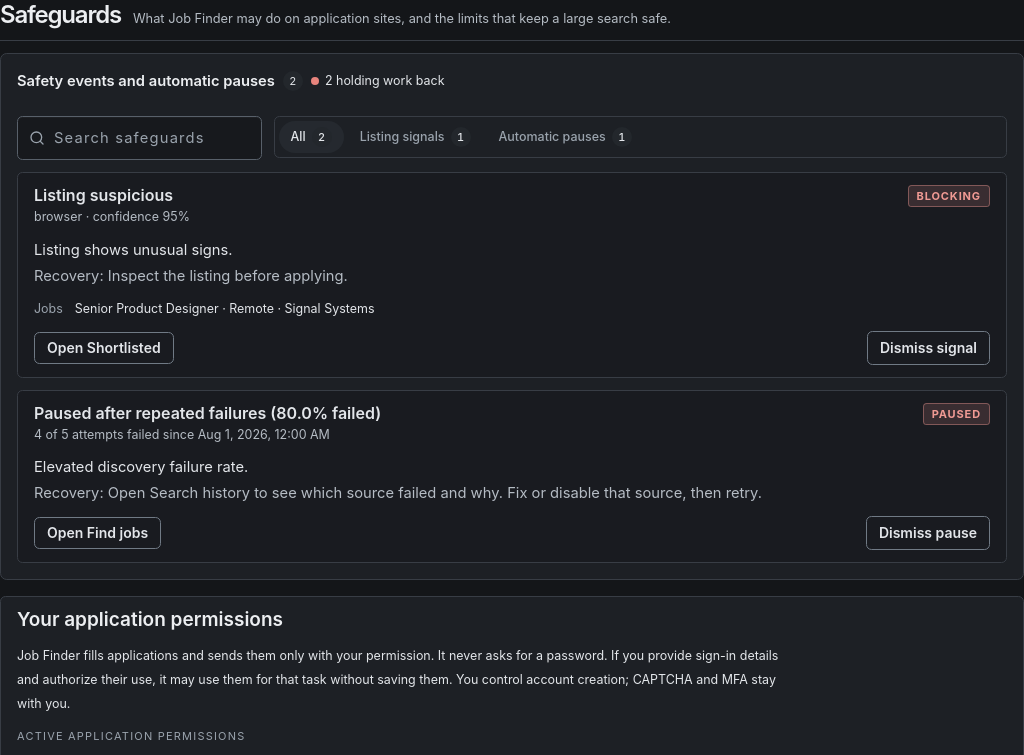
Test: SafeguardsScreen › announces the active filter and preserves filtering and counts
Expected: the heading "Listing suspicious" is shown, [34,185,173,205]
Click the button "Automatic pauses 1": (565, 137) [486,121,644,153]
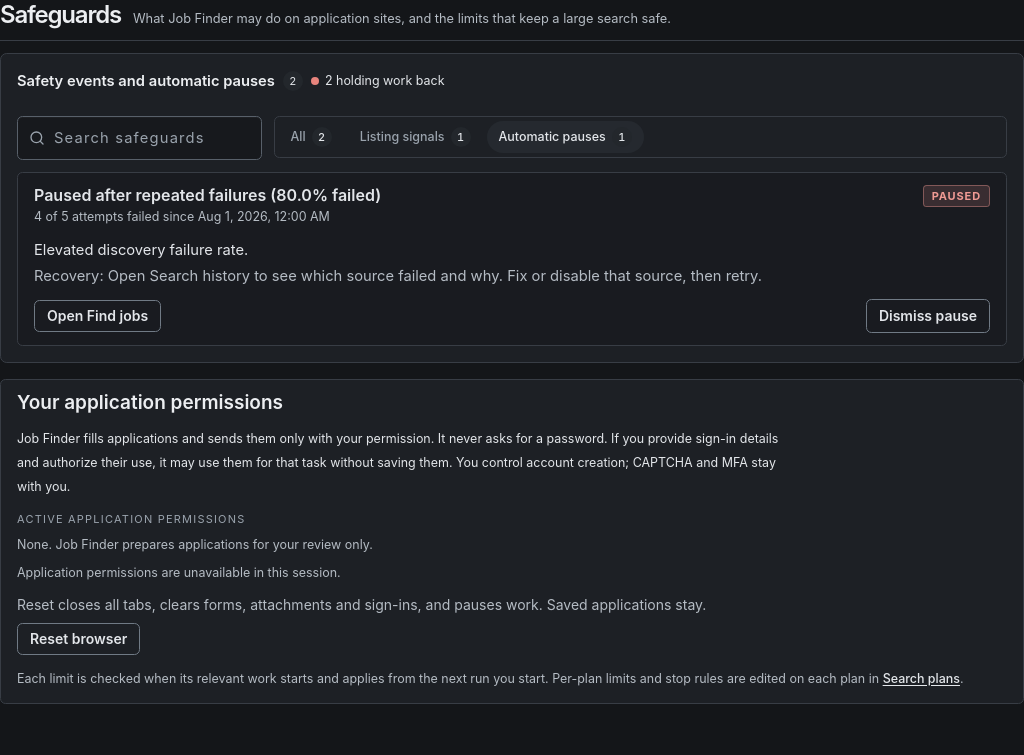
Expected: the heading "Listing suspicious" is gone
Click the button "Listing signals 1": (415, 137) [348,121,482,153]
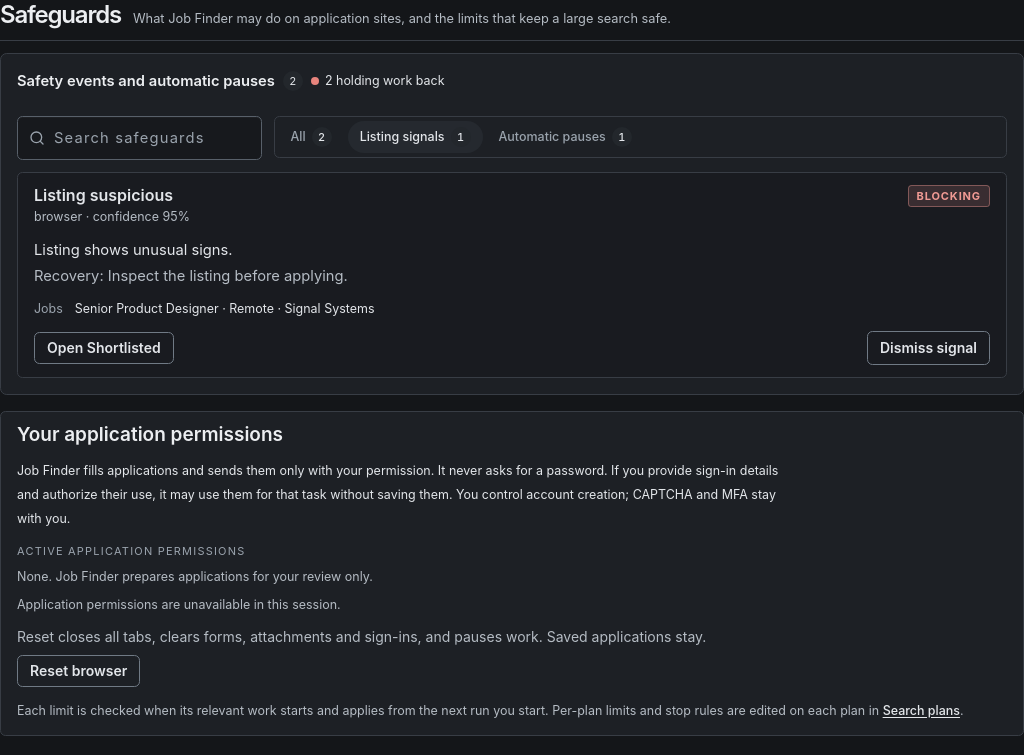
Expected: the heading "Listing suspicious" is shown, [34,185,173,205]
